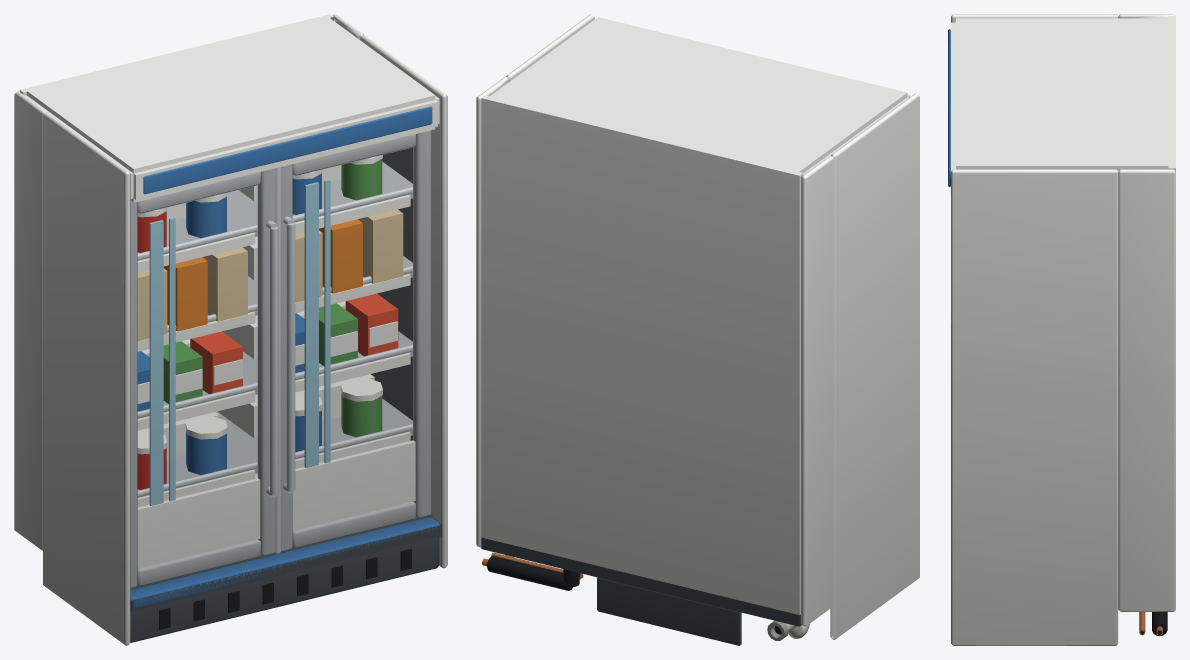
File: FreezerDoors_2Door_15_Stocked.glb
The picture shows the model from 3 angles, left to right: view 1: azimuth 30°, elevation 25°; view 2: azimuth 150°, elevation 25°; view 3: azimuth 270°, elevation 25°; orthographic projection. The views are drawn at different scales.
Parts seen in each view (by area): view 1: SM_FreezerDoors_2Door_15_Stocked; view 2: SM_FreezerDoors_2Door_15_Stocked; view 3: SM_FreezerDoors_2Door_15_Stocked.
Boxes of the visible parts, x1,y1,x2,y2 form: SM_FreezerDoors_2Door_15_Stocked: (14, 14, 447, 645); SM_FreezerDoors_2Door_15_Stocked: (476, 14, 919, 645); SM_FreezerDoors_2Door_15_Stocked: (948, 14, 1175, 645).
Bounding box in the file's own units: 1.5 × 2.1 × 0.912.
1 material, 1 textured.
